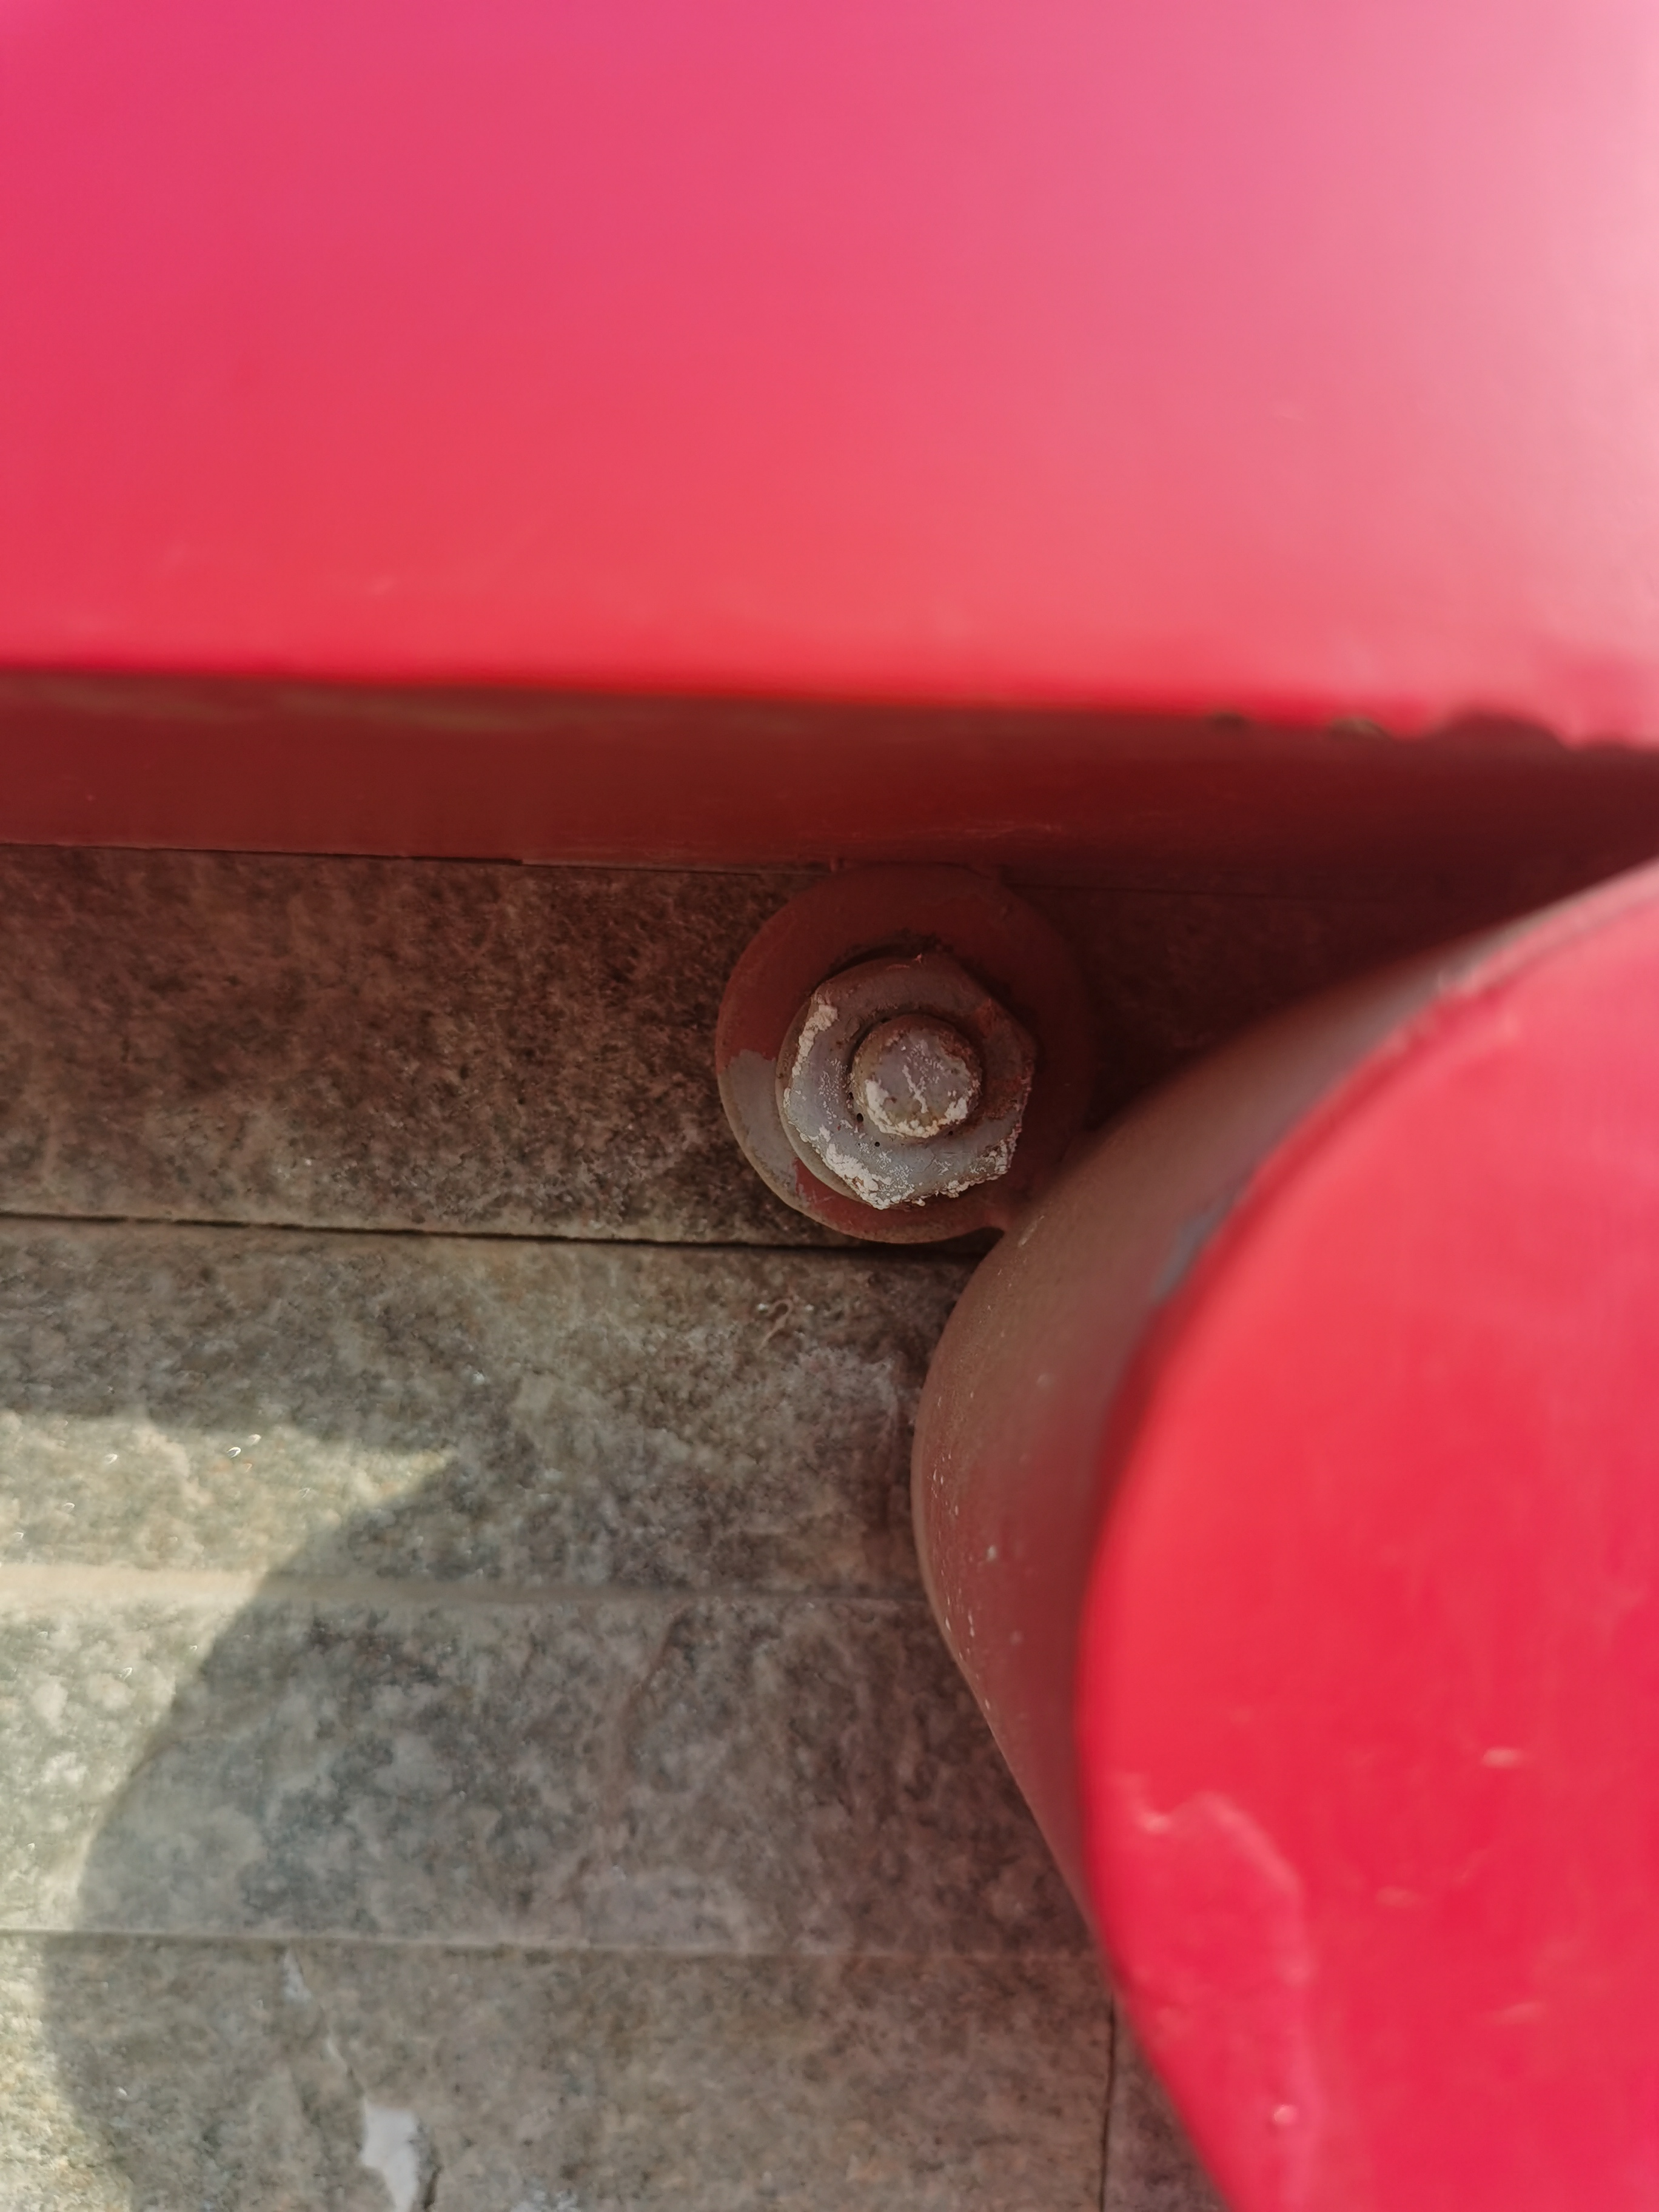bolt_b: (769, 932, 1056, 1217)
